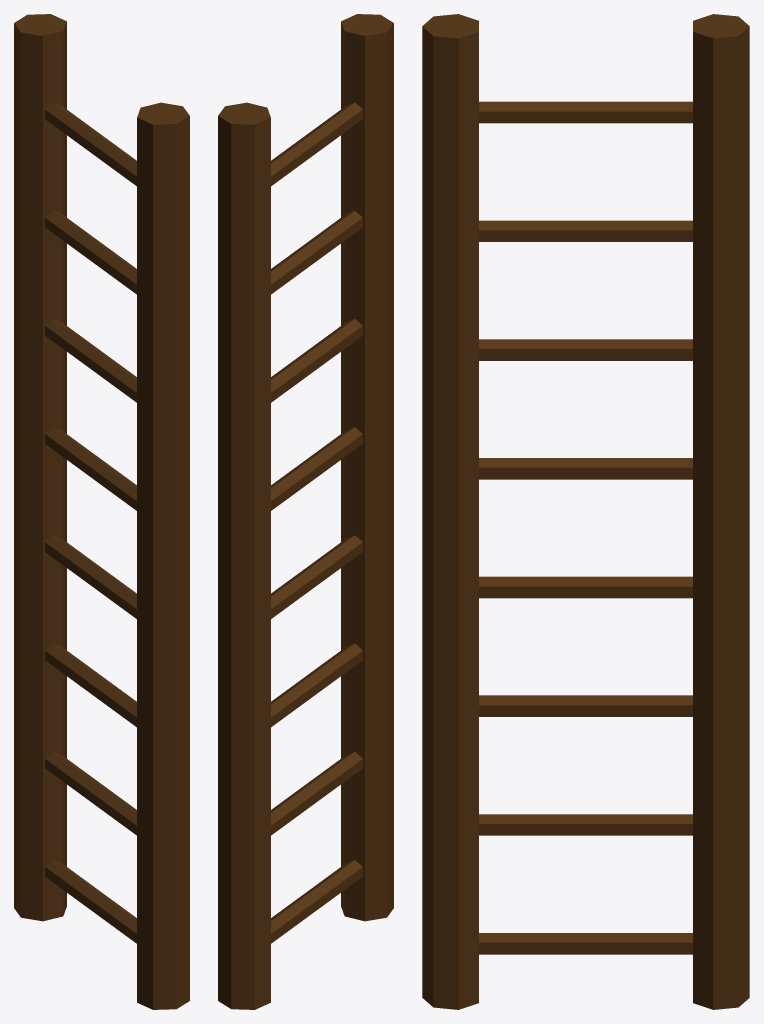
Rendered from Ladder.fbx.
3 views of the same model, side by side, from view 1: azimuth 30°, elevation 25°; view 2: azimuth 150°, elevation 25°; view 3: azimuth 270°, elevation 25° (orthographic). The views are drawn at different scales.
Visible parts, largest first — view 1: Cylinder.001; view 2: Cylinder.001; view 3: Cylinder.001.
Boxes of the visible parts, x1,y1,x2,y2 form: Cylinder.001: [14, 14, 189, 1009]; Cylinder.001: [218, 14, 393, 1009]; Cylinder.001: [422, 14, 749, 1009].
Size of the model in its own units: 195 by 3600 by 1100.
